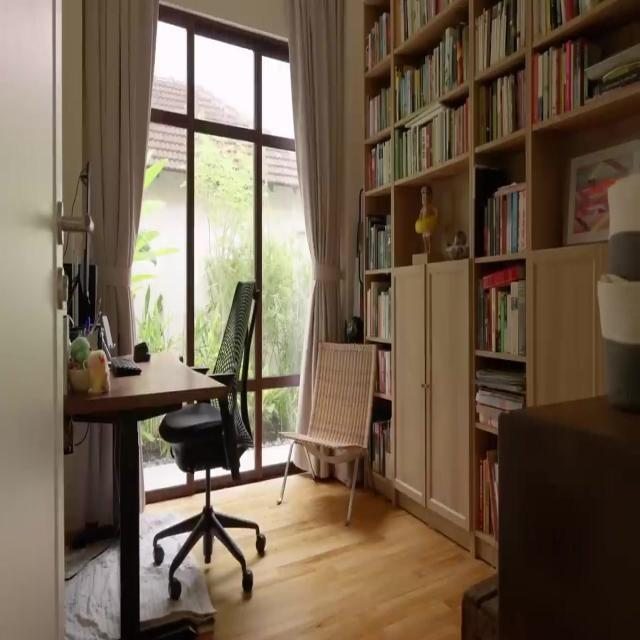door: (393, 256, 470, 534)
obstacle: (64, 350, 230, 638), (152, 279, 266, 600), (276, 340, 377, 526)
